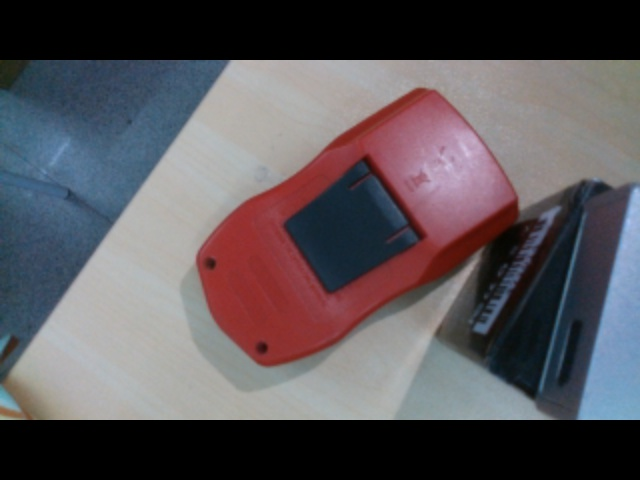Multimeter: (196, 90, 522, 369)
Screw holes: (204, 258, 217, 271), (255, 342, 268, 355)
